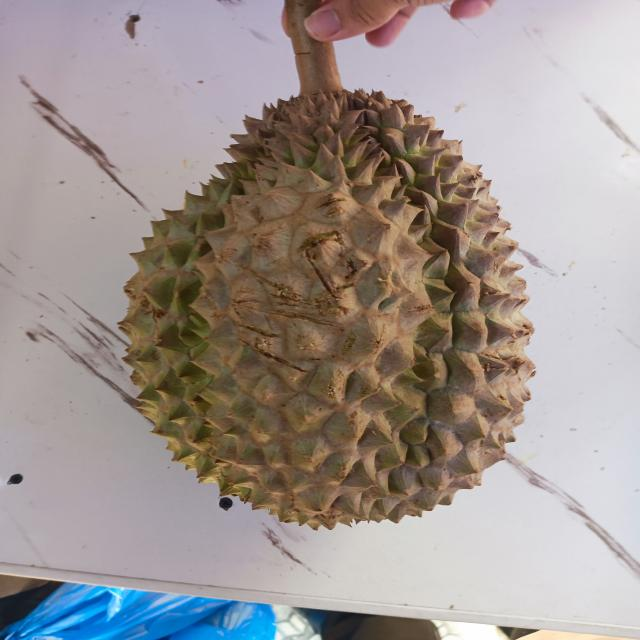mature: (119, 90, 535, 529)
